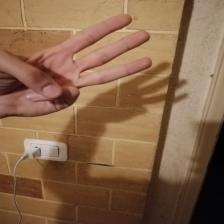five: (3, 11, 153, 123)
